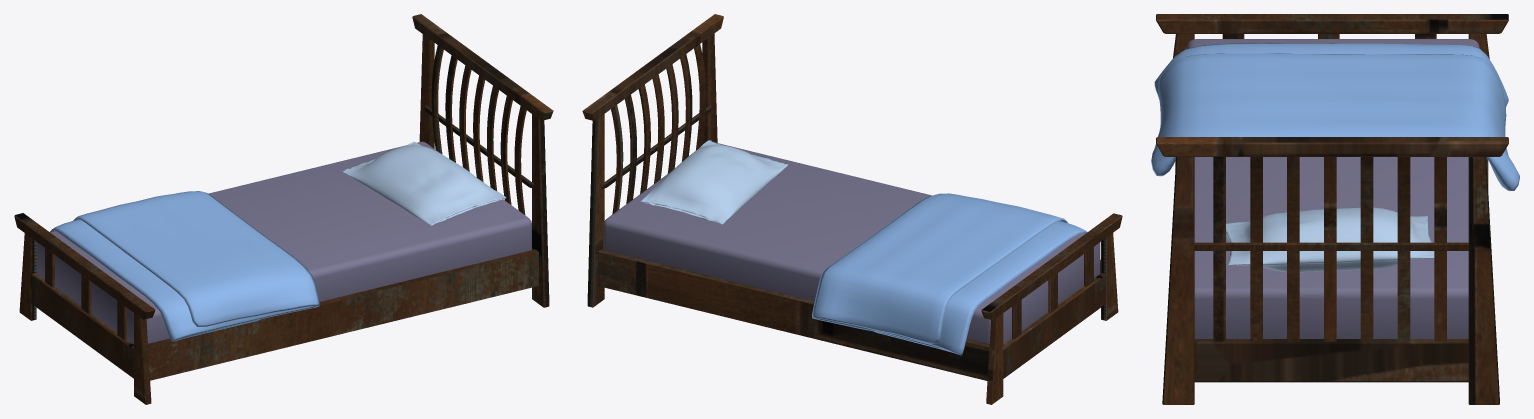
File: NFG-I0001.glb
3 renders of one model, left to right at view 1: azimuth 30°, elevation 25°; view 2: azimuth 150°, elevation 25°; view 3: azimuth 270°, elevation 25°, orthographic. The views are drawn at different scales.
Parts seen in each view (by area): view 1: BED.003, Toshok.002, chador.003, pillow.002; view 2: BED.003, Toshok.002, chador.003, pillow.002; view 3: BED.003, chador.003, Toshok.002, pillow.002.
Part boxes in pixels (bbox=[...]): BED.003: bbox=[14, 14, 553, 404]; Toshok.002: bbox=[36, 141, 531, 344]; chador.003: bbox=[50, 191, 319, 341]; pillow.002: bbox=[342, 141, 506, 225]; BED.003: bbox=[582, 14, 1122, 404]; Toshok.002: bbox=[603, 142, 1100, 344]; chador.003: bbox=[812, 193, 1087, 355]; pillow.002: bbox=[640, 140, 788, 224]; BED.003: bbox=[1156, 14, 1508, 404]; chador.003: bbox=[1151, 43, 1519, 190]; Toshok.002: bbox=[1186, 39, 1479, 338]; pillow.002: bbox=[1226, 207, 1434, 272].
Bounding box in the file's own units: 2 × 0.9253 × 1.17.
Materials: 4 (1 with a texture image).
